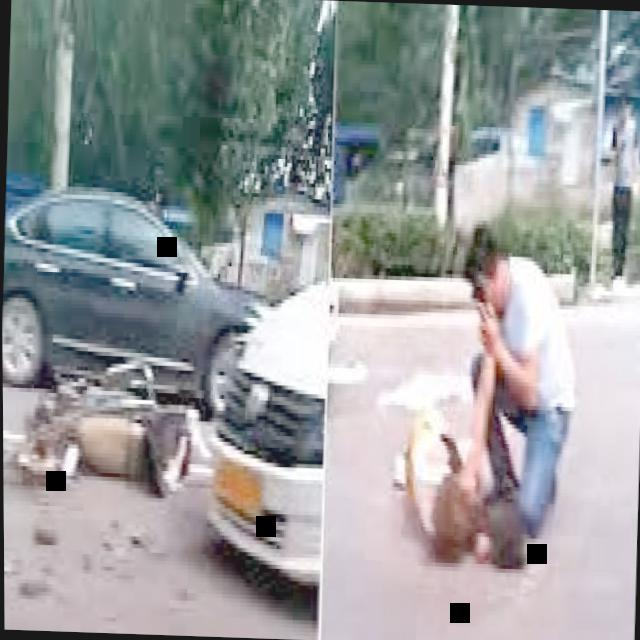Fall-Detected: (380, 362, 538, 566)
